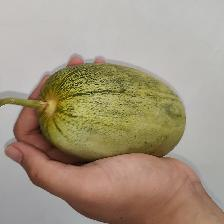gua: (56, 68, 185, 162)
